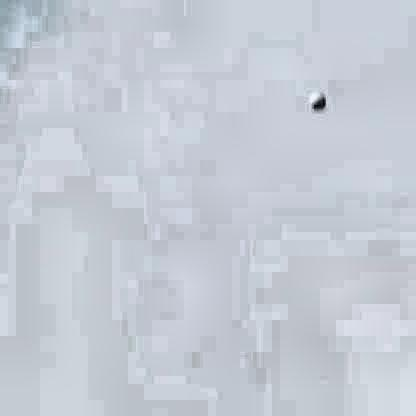golfball: (305, 86, 323, 108)
